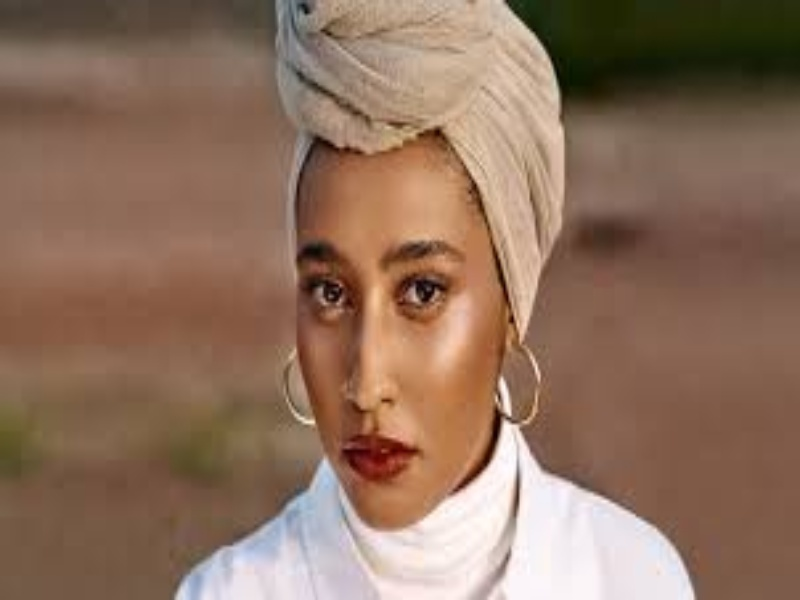face: (295, 193, 482, 499)
